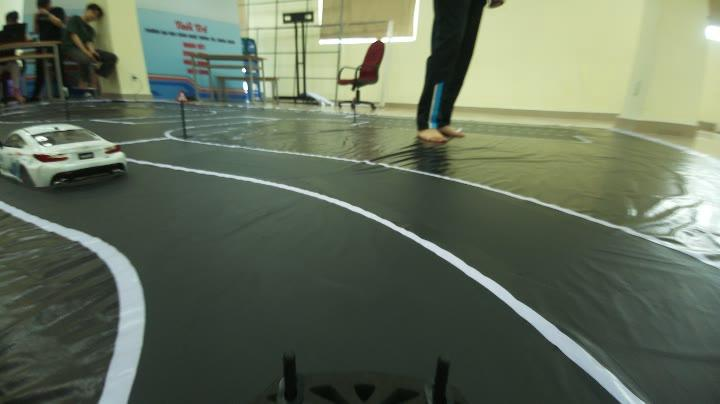car: (3, 106, 127, 198)
